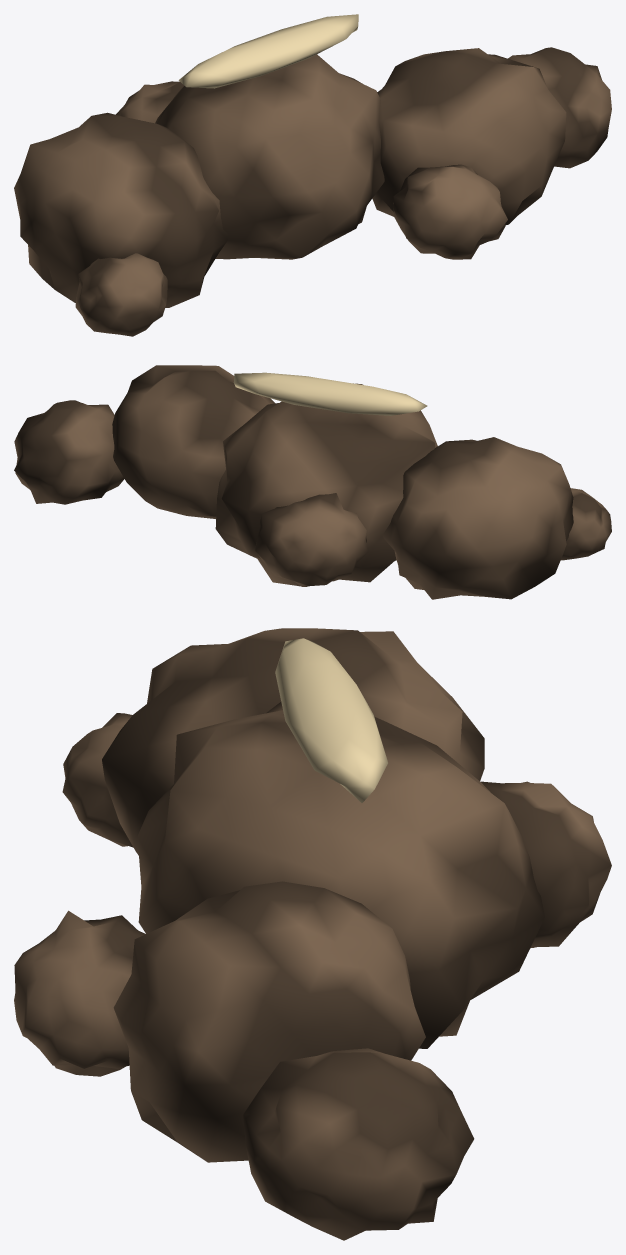
The model's file is roasted-tuber.glb.
3 renders of one model, top to bottom at view 1: azimuth 30°, elevation 25°; view 2: azimuth 150°, elevation 25°; view 3: azimuth 270°, elevation 25°, orthographic. The views are drawn at different scales.
Visible parts, largest first — view 1: Body_lod0; view 2: Body_lod0; view 3: Body_lod0.
Boxes of the visible parts, <box> form: Body_lod0: <box>14,14,611,336</box>; Body_lod0: <box>14,365,611,599</box>; Body_lod0: <box>14,628,611,1240</box>.
Size of what is drawn, in the model's own units: 0.1749 by 0.0576 by 0.0967.
